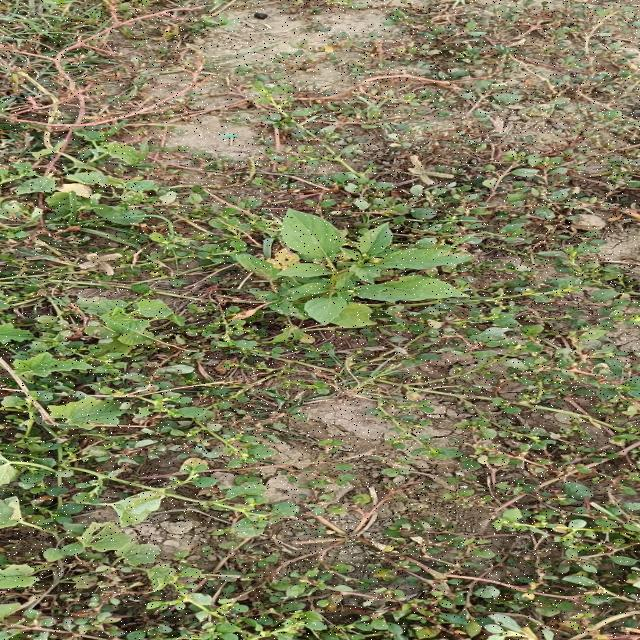plant: (237, 210, 470, 328)
